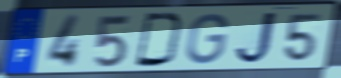4: (44, 12, 82, 71)
5: (91, 13, 135, 69), (283, 11, 324, 62)
D: (132, 11, 186, 69)
G: (184, 12, 231, 67)
J: (233, 10, 280, 66)
